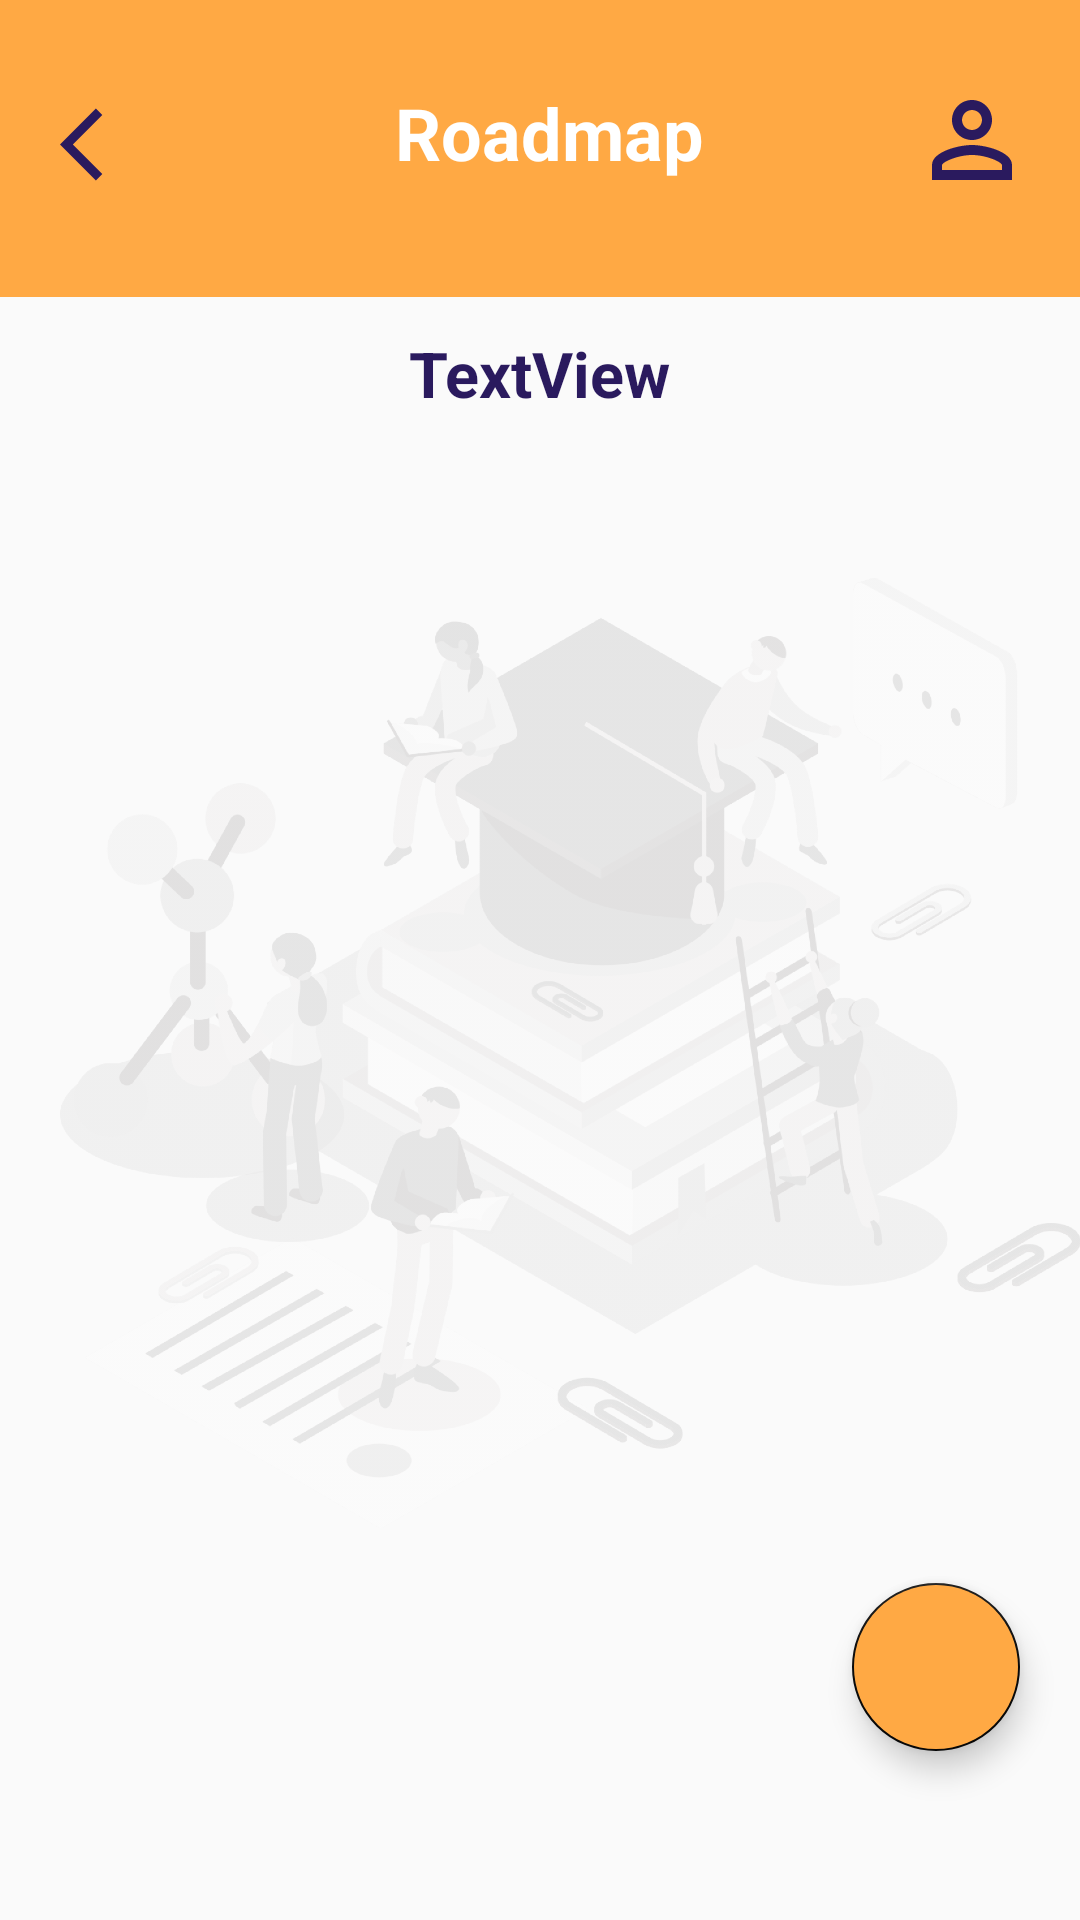

Where to tap for icons on this 1080 x 1920 app screen, as [x,y]:
back toolbar: [81,144]
login prof: [972,140]
